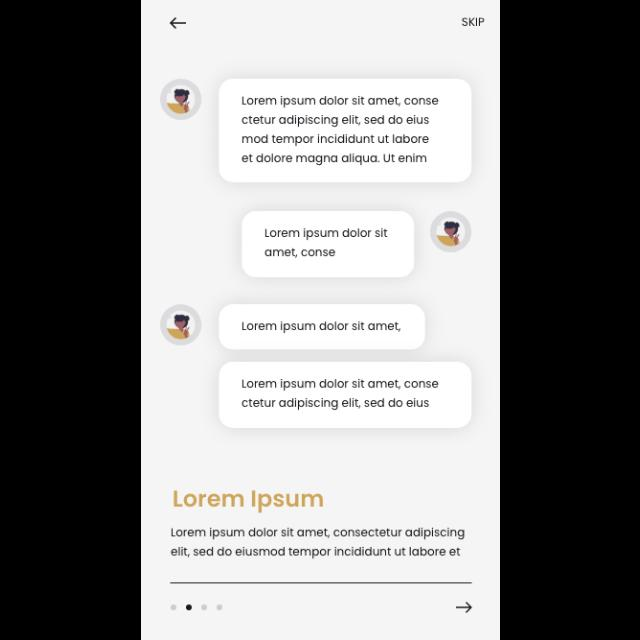icon: (456, 600, 472, 614), (168, 18, 186, 30)
image: (159, 79, 201, 121), (160, 304, 202, 346), (430, 211, 470, 253)
pageindicator: (170, 603, 223, 611)
text: (242, 96, 438, 166), (170, 527, 466, 559), (241, 380, 439, 410), (264, 229, 388, 259), (173, 490, 323, 514), (242, 321, 401, 334), (461, 18, 484, 28)
